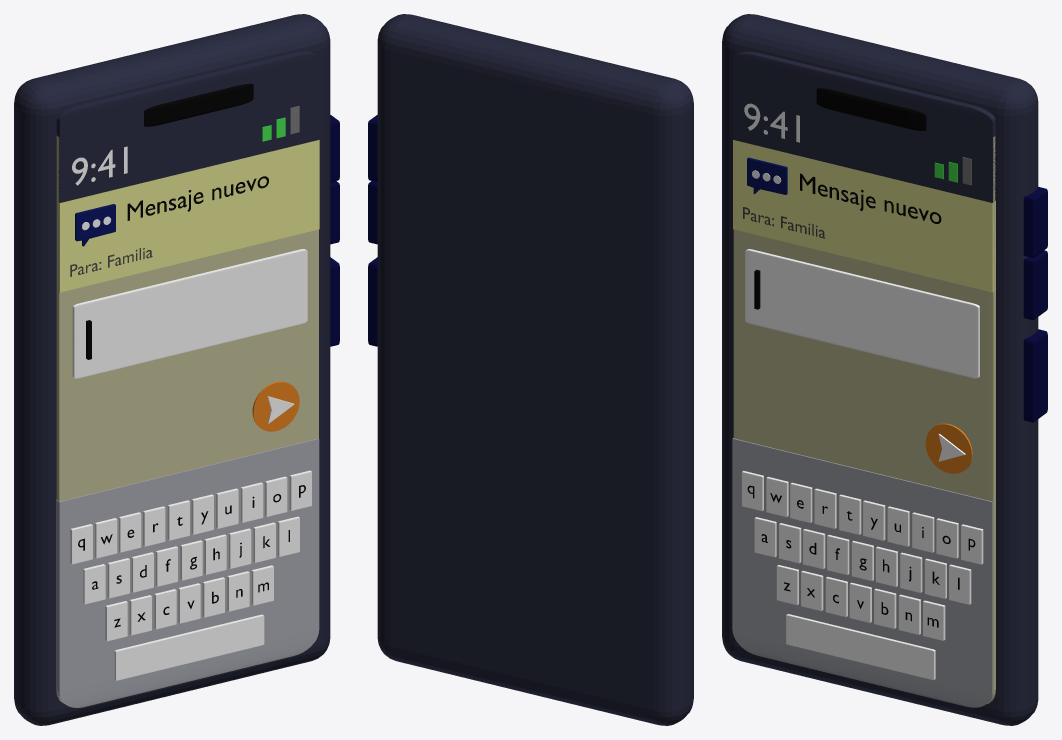
File: Celular.glb
The picture shows the model from 3 angles, left to right: view 1: azimuth 30°, elevation 25°; view 2: azimuth 150°, elevation 25°; view 3: azimuth 330°, elevation 25°; orthographic projection.
Parts seen in each view (by area): view 1: Carcasa_Celular, Base_Interfaz_Celular, Carcasa_Celular1_001, Cubo, Carcasa_Celular1, Base_Texto_Celular_, Cubo_020, Camara_Celular, Logo_Enviar1, Logo_SMS, Texto_001, Boton (+29 smaller); view 2: Carcasa_Celular, Boton, Boton_Volumen1, Boton_Volumen2; view 3: Carcasa_Celular, Base_Interfaz_Celular, Carcasa_Celular1_001, Cubo, Carcasa_Celular1, Base_Texto_Celular_, Cubo_020, Camara_Celular, Boton, Boton_Volumen1, Boton_Volumen2, Logo_Enviar1 (+29 smaller).
Part boxes in pixels (bbox=[...]): Carcasa_Celular: bbox=[14, 14, 330, 725]; Base_Interfaz_Celular: bbox=[56, 135, 318, 703]; Carcasa_Celular1_001: bbox=[56, 438, 319, 707]; Cubo: bbox=[56, 140, 319, 292]; Carcasa_Celular1: bbox=[56, 51, 319, 202]; Base_Texto_Celular_: bbox=[72, 249, 307, 378]; Cubo_020: bbox=[114, 614, 264, 680]; Camara_Celular: bbox=[144, 83, 253, 126]; Logo_Enviar1: bbox=[252, 381, 299, 431]; Logo_SMS: bbox=[75, 204, 115, 246]; Texto_001: bbox=[127, 176, 268, 220]; Boton: bbox=[330, 257, 339, 346]; Carcasa_Celular: bbox=[377, 14, 693, 725]; Boton: bbox=[368, 257, 377, 346]; Boton_Volumen1: bbox=[368, 115, 377, 182]; Boton_Volumen2: bbox=[368, 181, 377, 244]; Carcasa_Celular: bbox=[722, 14, 1038, 725]; Base_Interfaz_Celular: bbox=[733, 136, 995, 703]; Carcasa_Celular1_001: bbox=[732, 438, 992, 707]; Cubo: bbox=[733, 140, 995, 292]; Carcasa_Celular1: bbox=[733, 51, 995, 202]; Base_Texto_Celular_: bbox=[745, 249, 979, 378]; Cubo_020: bbox=[786, 614, 935, 680]; Camara_Celular: bbox=[816, 88, 926, 130]; Boton: bbox=[1023, 329, 1047, 422]; Boton_Volumen1: bbox=[1023, 186, 1047, 257]; Boton_Volumen2: bbox=[1023, 250, 1047, 320]; Logo_Enviar1: bbox=[925, 423, 972, 473].
Size of the model in its own units: 5.13 by 10 by 0.9901.
